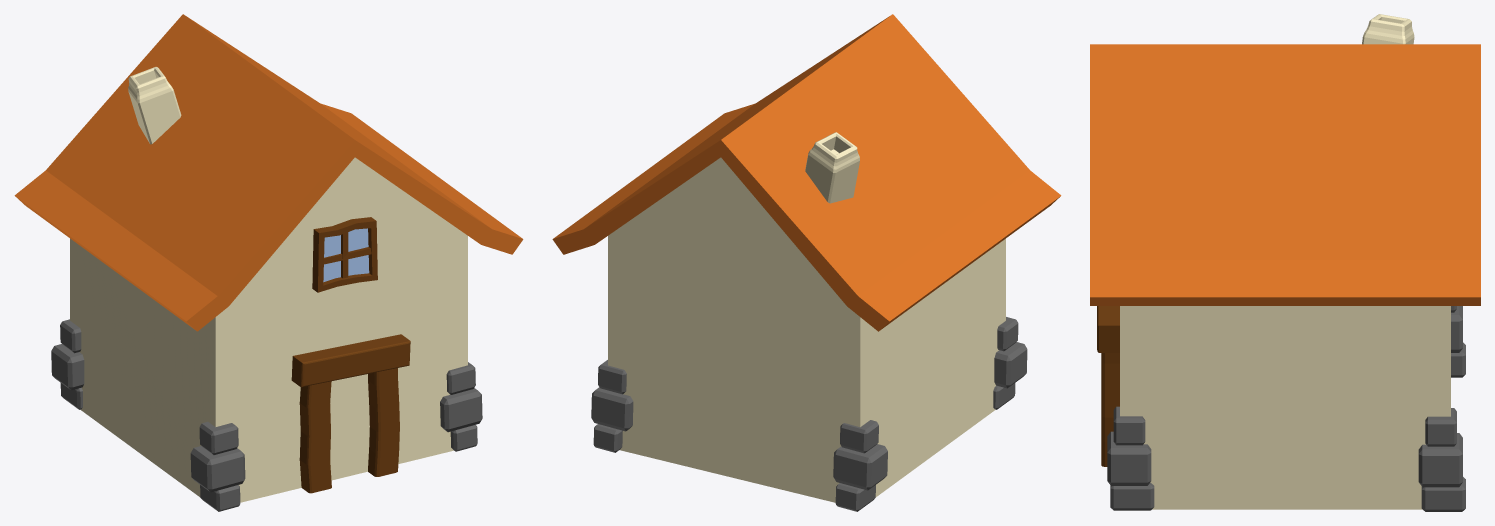
Rendered from Maison.fbx.
The picture shows the model from 3 angles, left to right: view 1: azimuth 30°, elevation 25°; view 2: azimuth 150°, elevation 25°; view 3: azimuth 270°, elevation 25°; orthographic projection. The views are drawn at different scales.
Parts seen in each view (by area): view 1: Maison; view 2: Maison; view 3: Maison.
Boxes of the visible parts, <box> form: Maison: <box>14,14,523,511</box>; Maison: <box>552,14,1061,511</box>; Maison: <box>1090,14,1480,511</box>.
Size of the model in its own units: 200 by 198 by 177.
